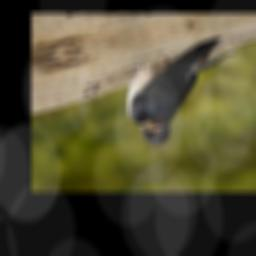Swallow: (112, 34, 256, 150)
